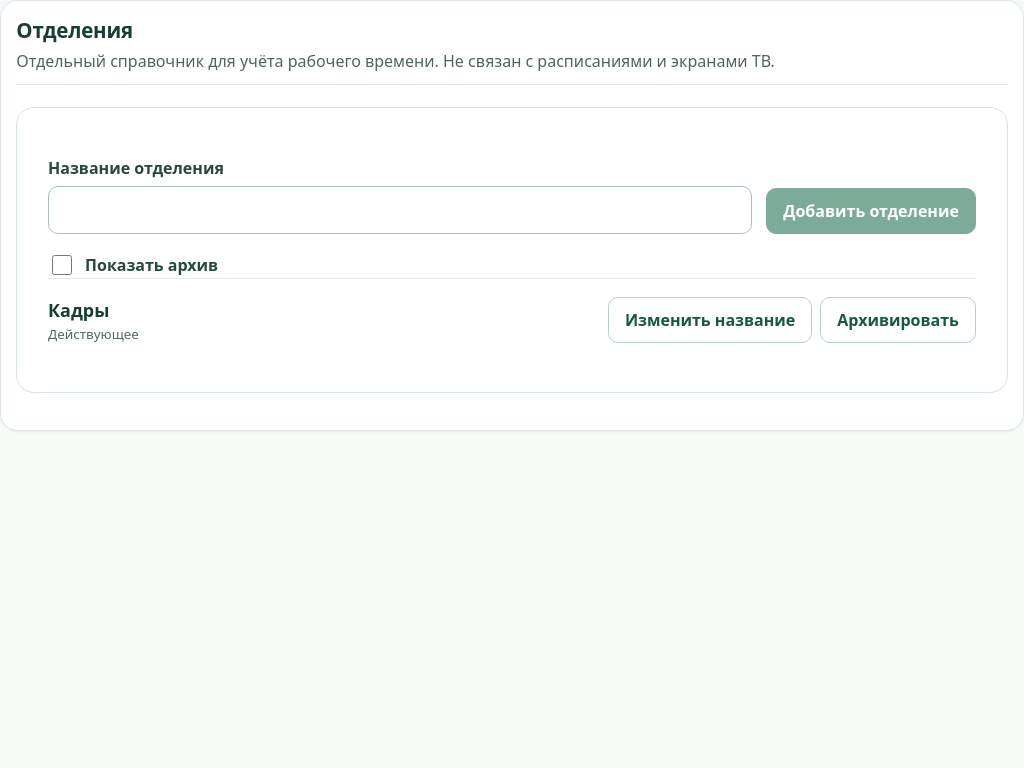
Test: explains why an assigned department cannot be archived
Step 1. Click the button with aria-label "Архивировать: Кадры" → click(898, 320), box [820,297,976,343]
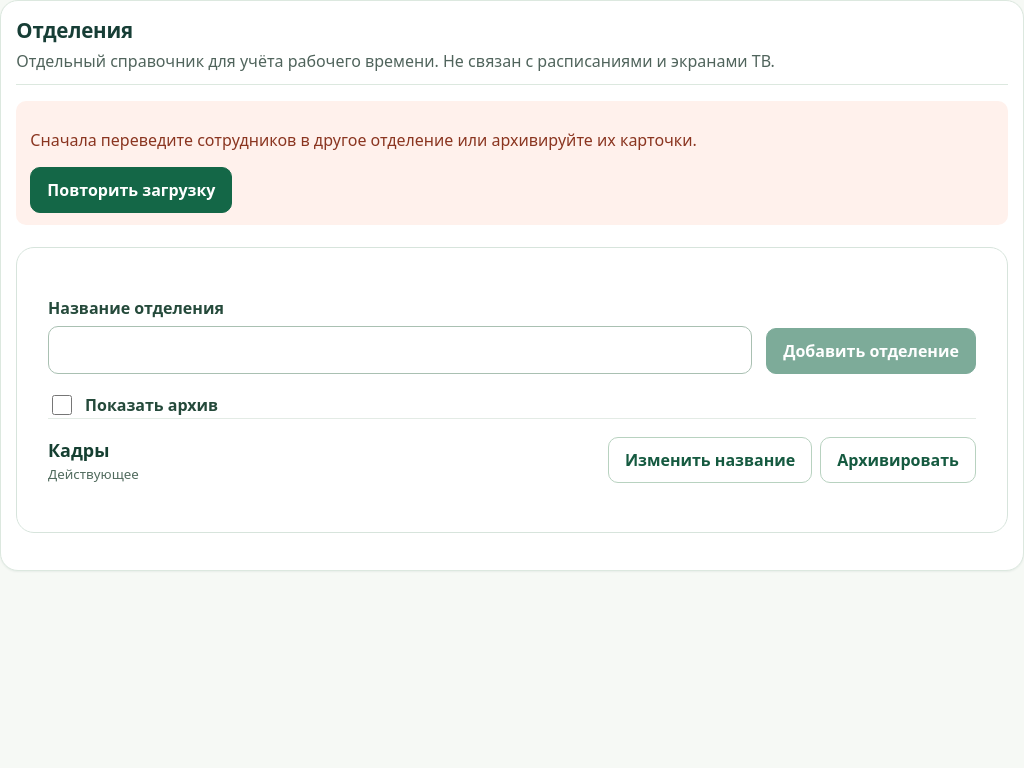
Check: the message shows "Сначала переведите сотрудников", box [30,129,697,151]
